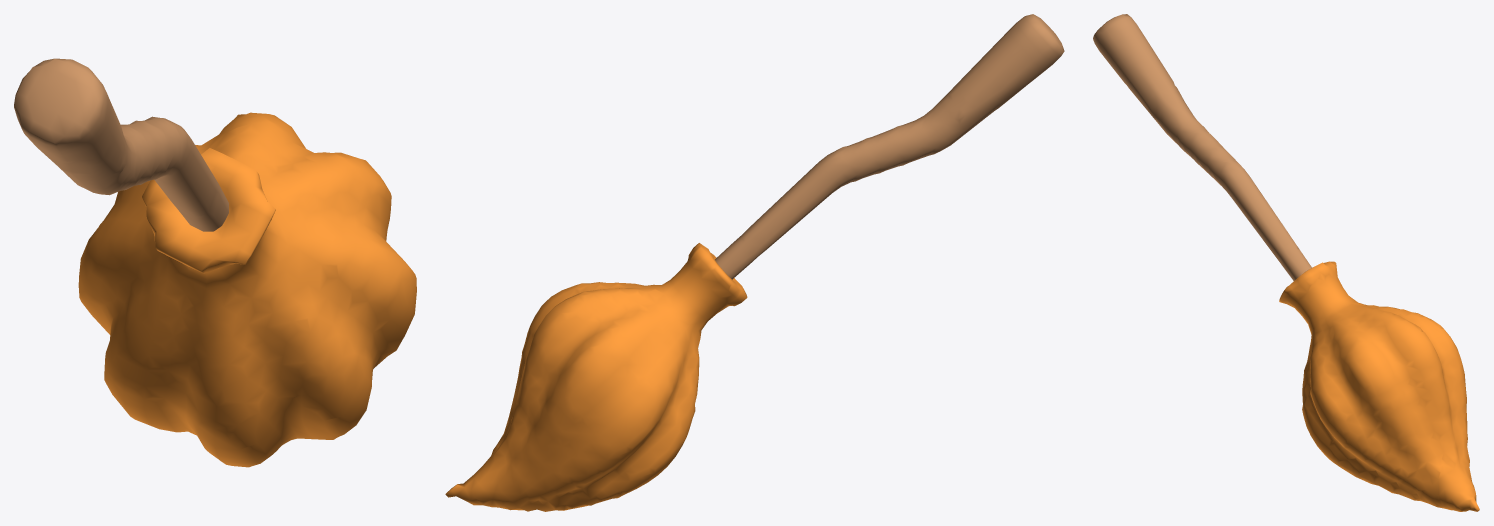
File: broom.glb
3 views of the same model, side by side, from view 1: azimuth 30°, elevation 25°; view 2: azimuth 150°, elevation 25°; view 3: azimuth 270°, elevation 25° (orthographic). The views are drawn at different scales.
Visible parts, largest first — view 1: Broom; view 2: Broom; view 3: Broom.
Part boxes in pixels (x1,y1,x2,y2): Broom: (14, 58, 416, 467); Broom: (445, 14, 1064, 511); Broom: (1093, 14, 1479, 511).
Bounding box in the file's own units: 1.93 × 1.98 × 1.93.
